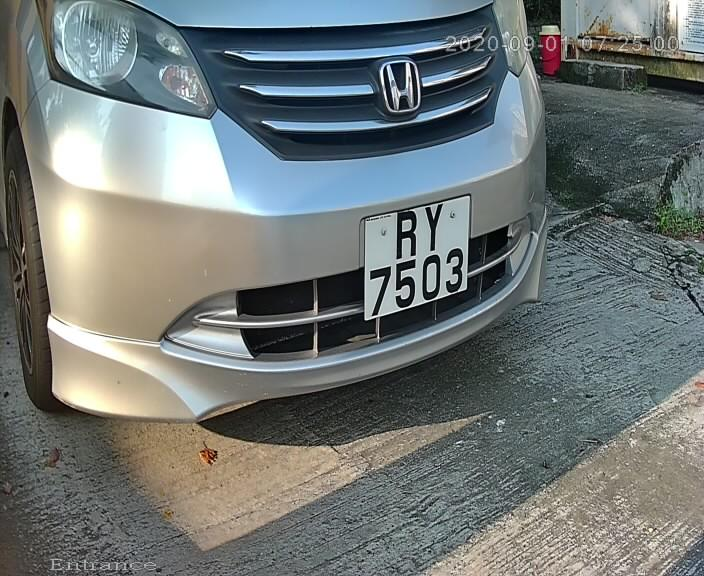License Plate: (359, 188, 475, 330)
